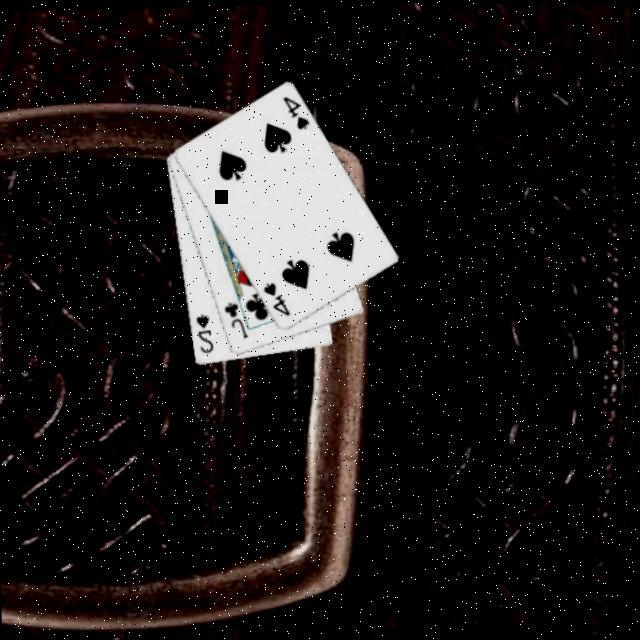2S: (192, 307, 216, 353)
4S: (258, 276, 292, 317), (278, 90, 312, 130)
JC: (220, 297, 251, 340)
